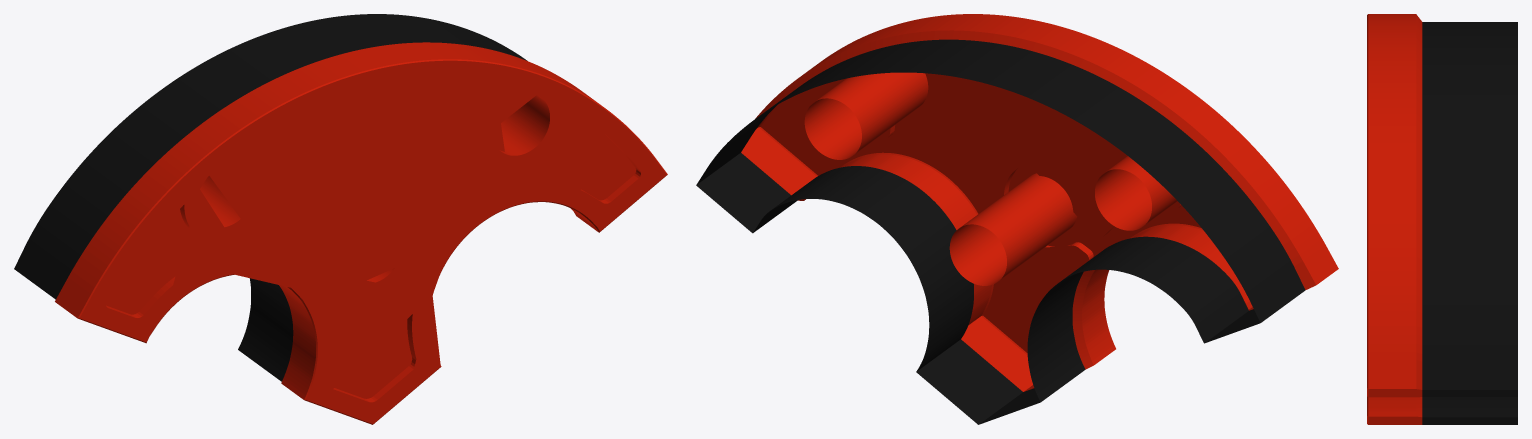
File: УВК3.fbx
3 renders of one model, left to right at view 1: azimuth 30°, elevation 25°; view 2: azimuth 150°, elevation 25°; view 3: azimuth 270°, elevation 25°, orthographic. The views are drawn at different scales.
Parts seen in each view (by area): view 1: Cylinder.027; view 2: Cylinder.027; view 3: Cylinder.027.
Boxes of the visible parts, x1=… form: Cylinder.027: x1=14, y1=14, x2=667, y2=424; Cylinder.027: x1=696, y1=14, x2=1338, y2=424; Cylinder.027: x1=1367, y1=14, x2=1517, y2=424.
Size of the model in its own units: 16.46 by 9.49 by 3.49.
